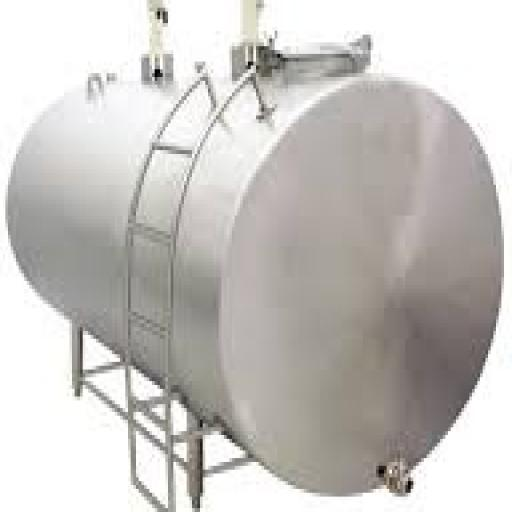silo: (4, 41, 504, 496)
